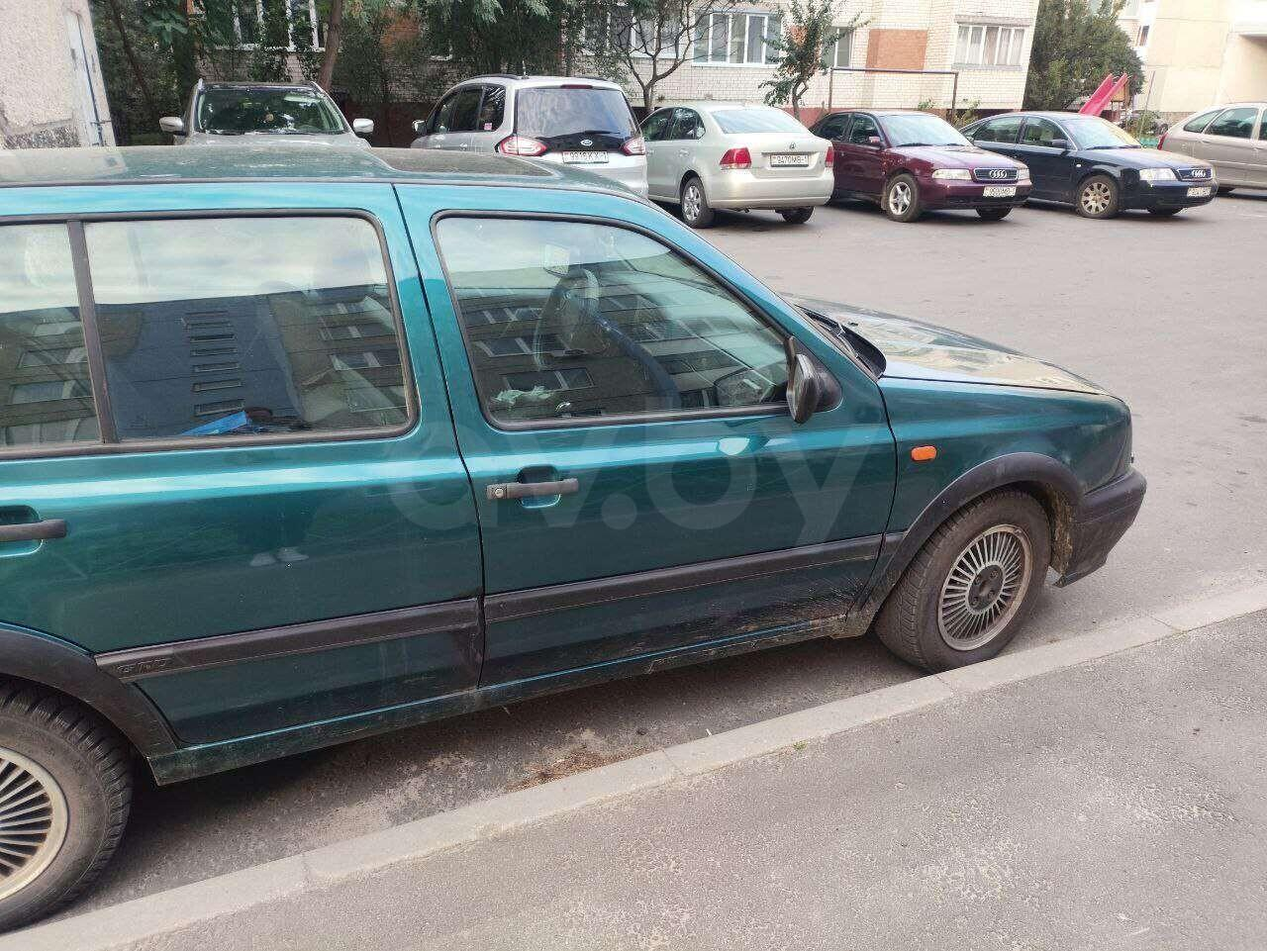Golf_1991-2000: (0, 143, 1146, 944)
